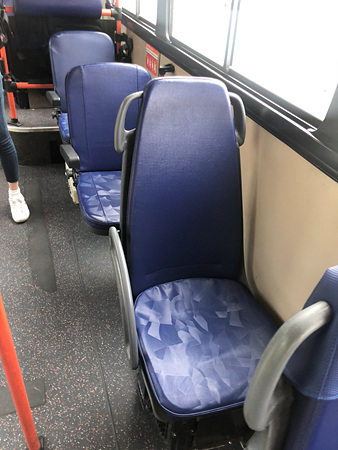seat: (117, 79, 263, 409)
